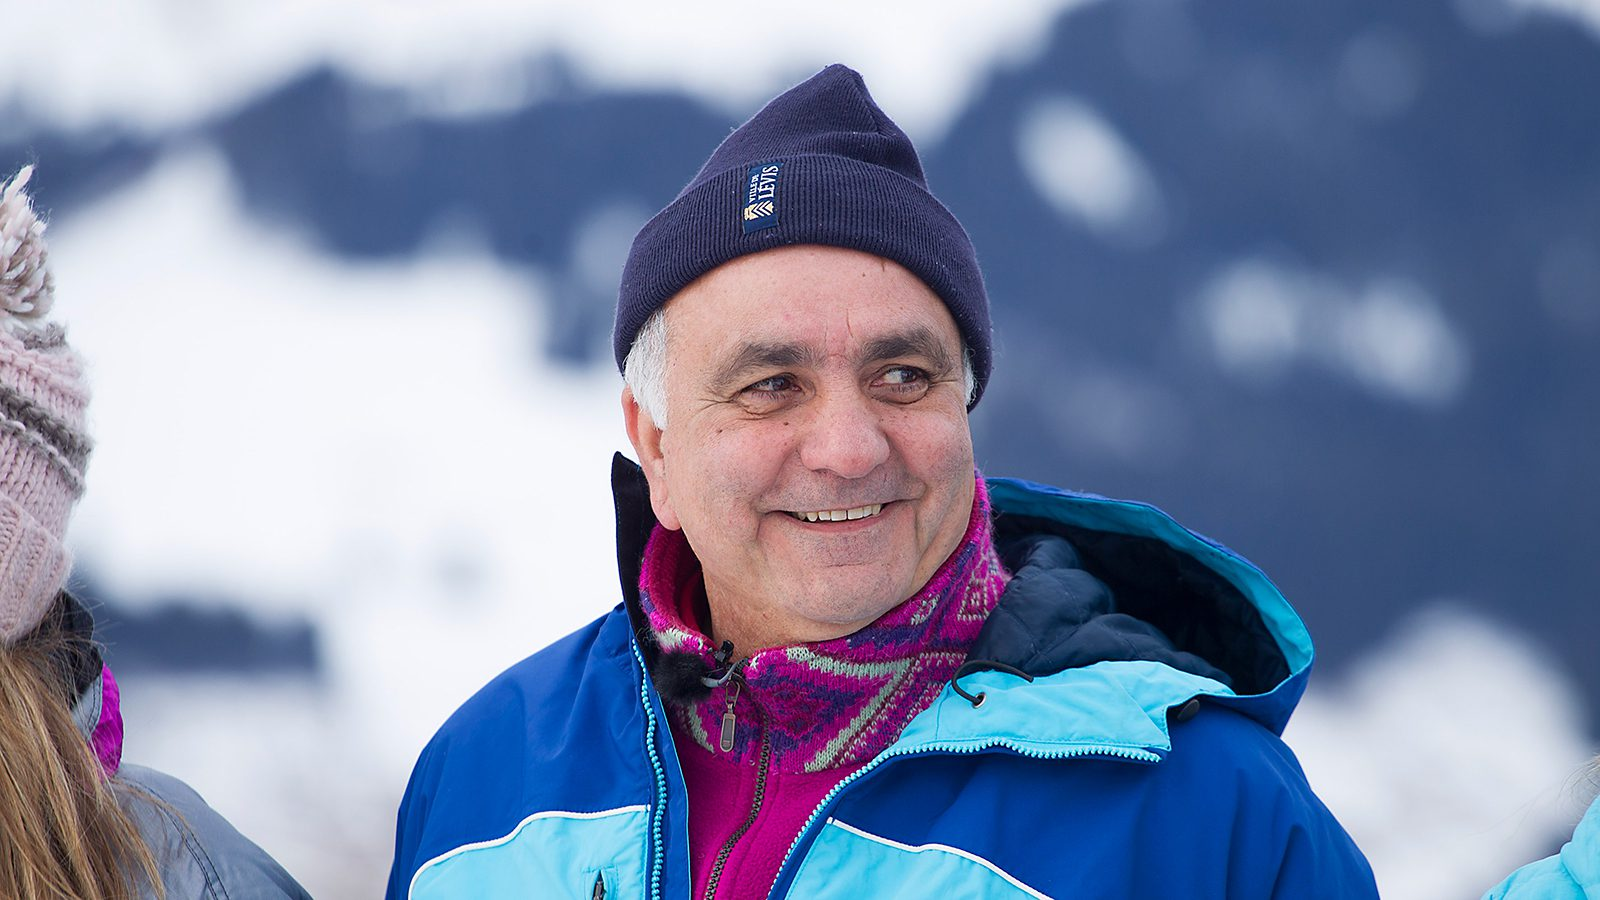without_mask: (703, 314, 944, 576)
